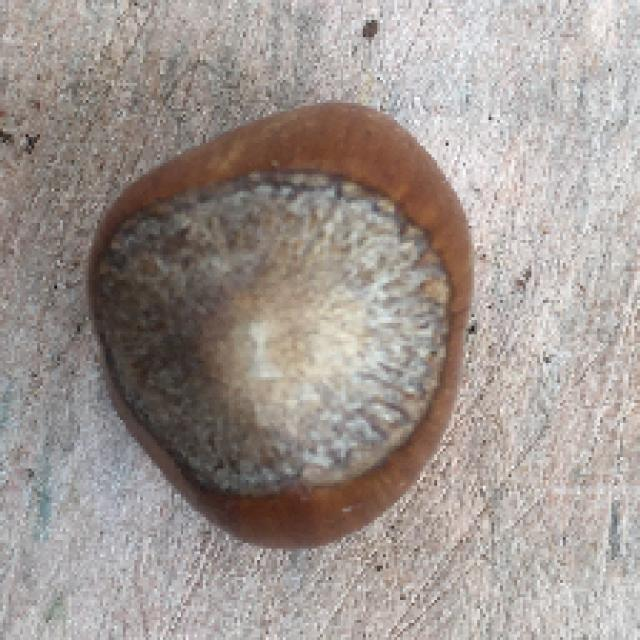damagedHazelnut: (70, 103, 477, 549)
